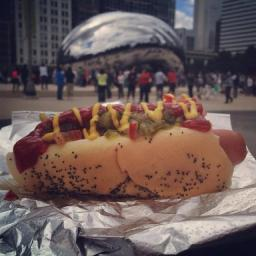hotdog: (208, 126, 256, 163)
